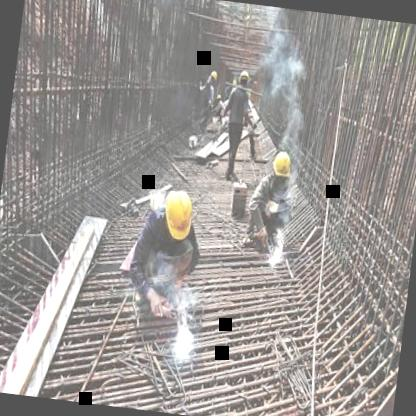helmet: (160, 186, 196, 242), (266, 146, 296, 188), (236, 67, 250, 92)
